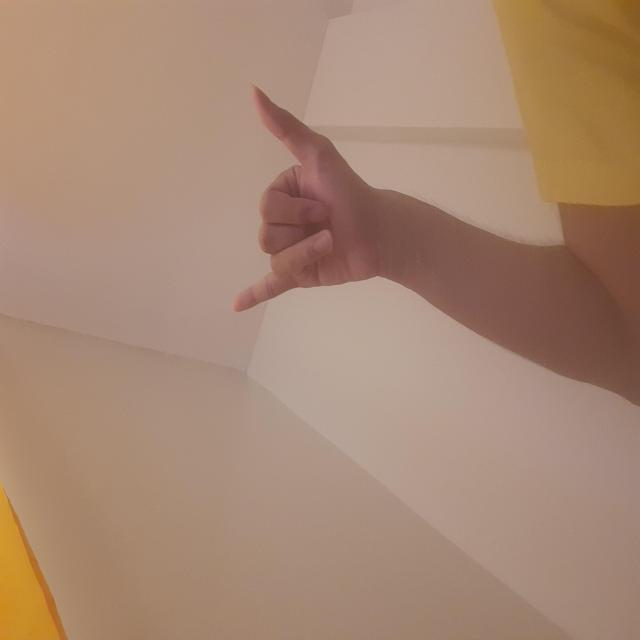Y: (200, 63, 399, 352)
